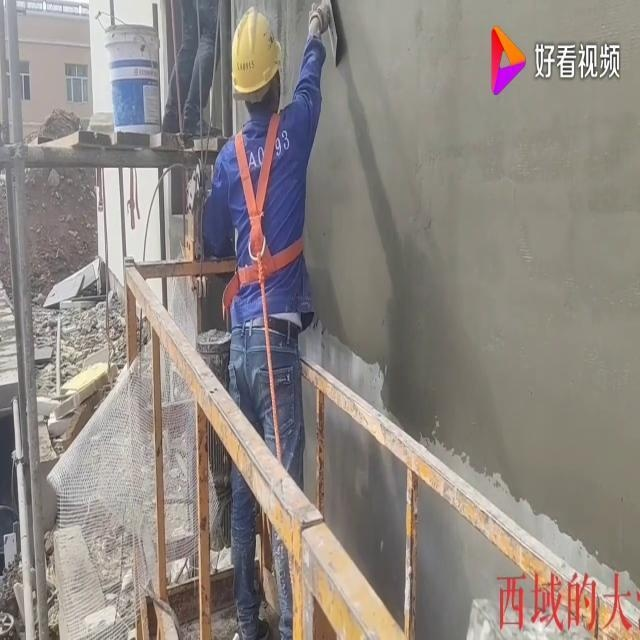Arnes_seguridad: (222, 105, 312, 290)
